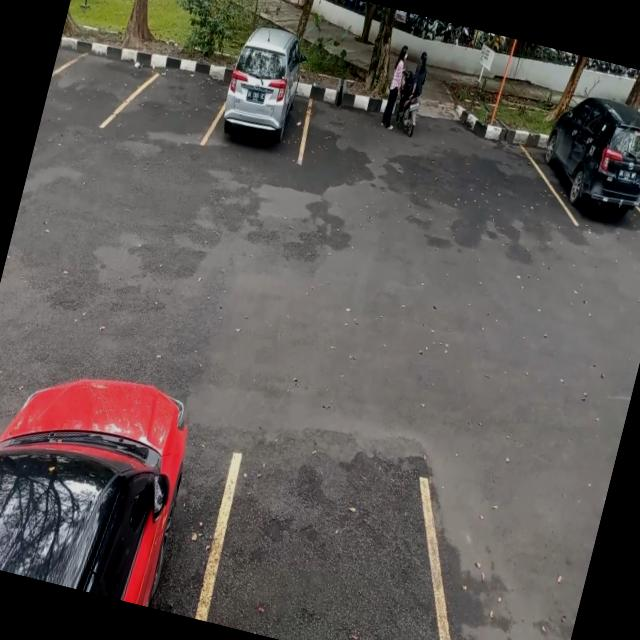car: (206, 36, 326, 166), (527, 108, 640, 241)
free: (194, 431, 473, 640), (121, 41, 231, 150), (43, 16, 146, 130)
